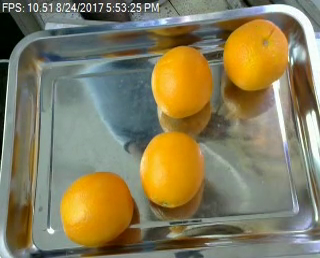Orange: (59, 172, 135, 246), (139, 132, 205, 208), (223, 17, 289, 90), (150, 45, 213, 118)
